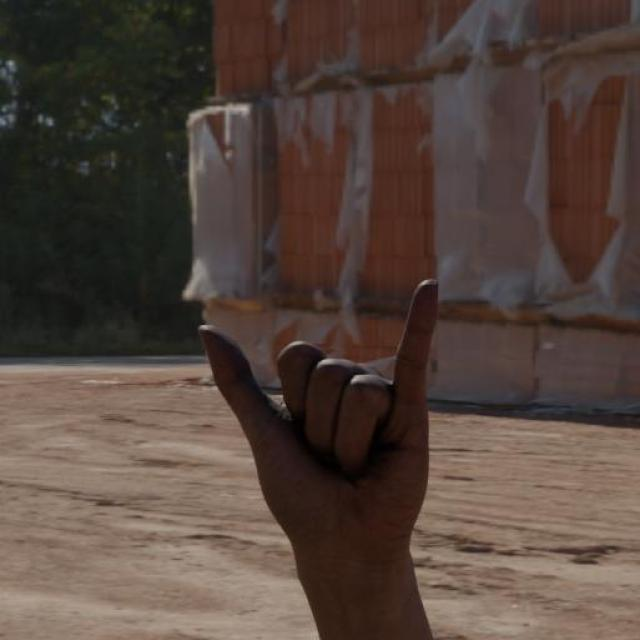Y: (195, 276, 443, 569)
